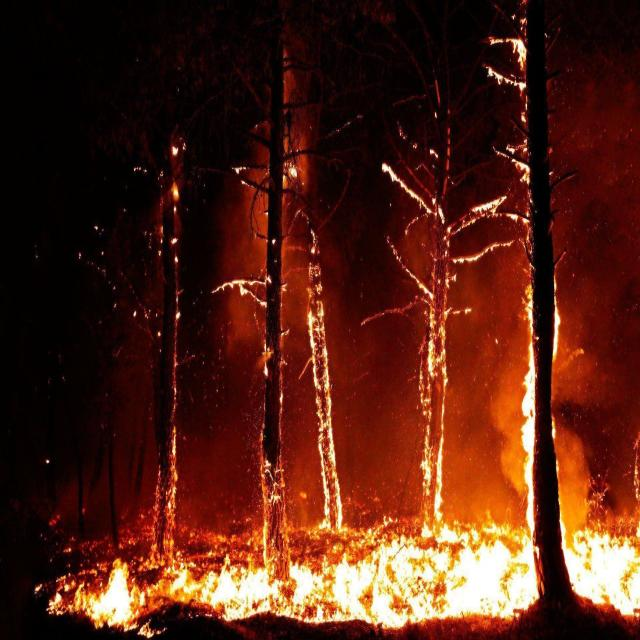Fire: (82, 93, 640, 640)
